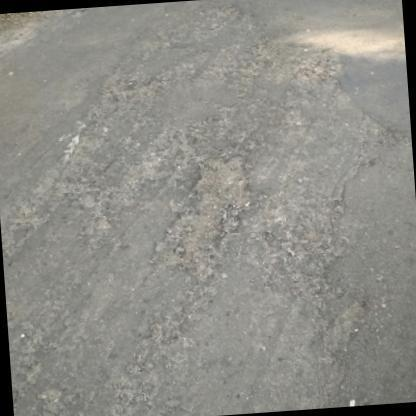pothole: (152, 150, 260, 282), (292, 224, 374, 356), (299, 48, 343, 94)
